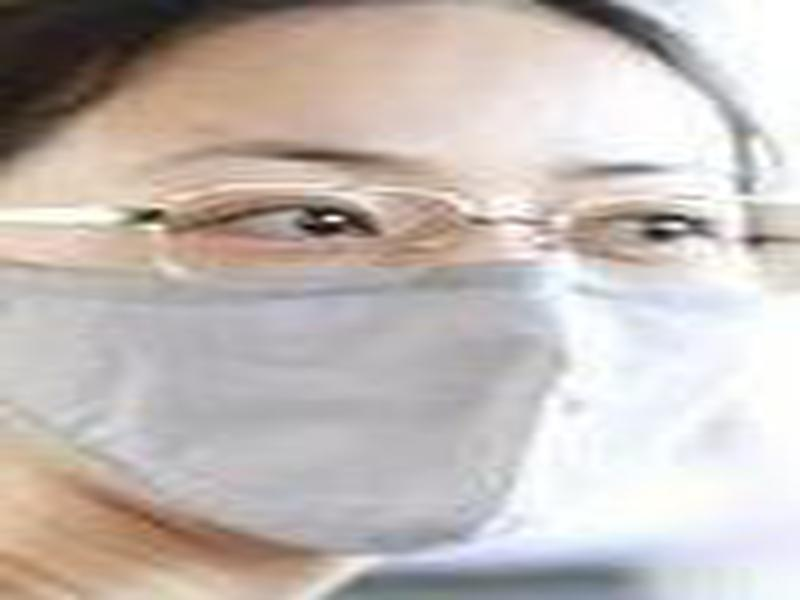with_mask: (1, 1, 768, 556)
